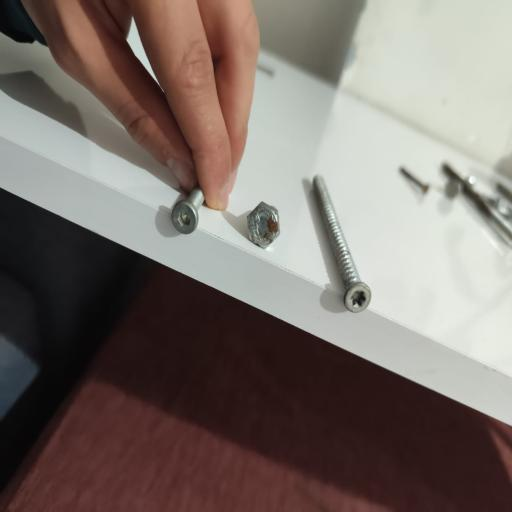Hex-Allen: (247, 200, 281, 249), (171, 196, 199, 238)
Torx: (339, 278, 376, 318)
